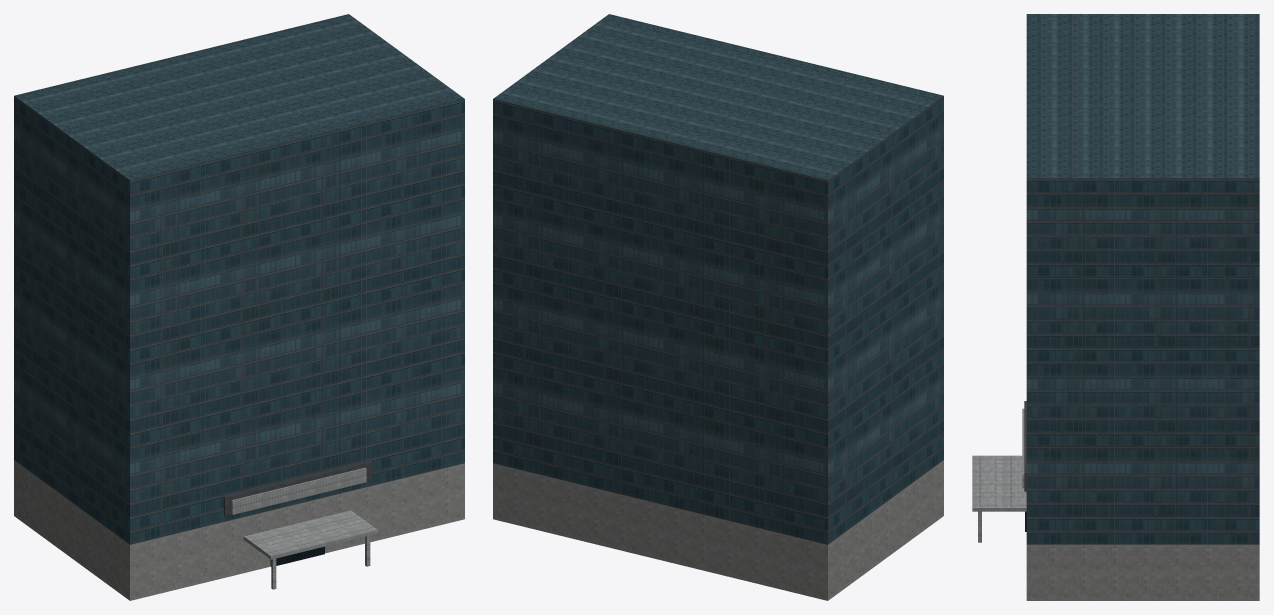
The model's file is downtown-hotel_lod0.gltf.
3 views of the same model, side by side, from view 1: azimuth 30°, elevation 25°; view 2: azimuth 150°, elevation 25°; view 3: azimuth 270°, elevation 25° (orthographic).
Parts seen in each view (by area): view 1: downtown-hotel_upper, downtown-hotel_base, downtown-hotel__porte_cochere, downtown-hotel__sign_band, downtown-hotel__sign_frame; view 2: downtown-hotel_upper, downtown-hotel_base; view 3: downtown-hotel_upper, downtown-hotel_base, downtown-hotel__porte_cochere.
Part boxes in pixels (bbox=[...]): downtown-hotel_upper: bbox=[14, 14, 464, 544]; downtown-hotel_base: bbox=[14, 460, 464, 600]; downtown-hotel__porte_cochere: bbox=[244, 510, 377, 559]; downtown-hotel__sign_band: bbox=[231, 467, 366, 514]; downtown-hotel__sign_frame: bbox=[224, 461, 372, 515]; downtown-hotel_upper: bbox=[493, 14, 943, 544]; downtown-hotel_base: bbox=[493, 460, 943, 600]; downtown-hotel_upper: bbox=[1026, 14, 1259, 544]; downtown-hotel_base: bbox=[1026, 544, 1259, 600]; downtown-hotel__porte_cochere: bbox=[972, 455, 1026, 511].
Size of the model in its own units: 50 by 60 by 37.
